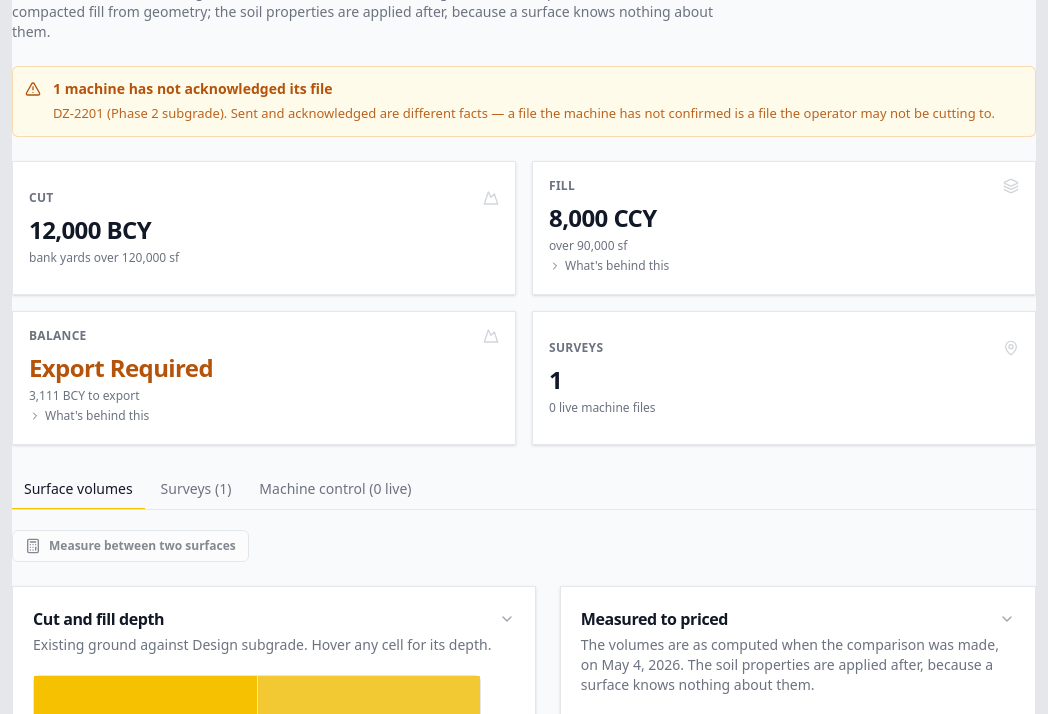
Test: machine control › marks a superseded file rather than hiding it
The width and height of the screenshot is (1048, 714).
Click the tab "Machine control (0 live)": click(335, 489) [247,469,424,509]
(page scrolled)
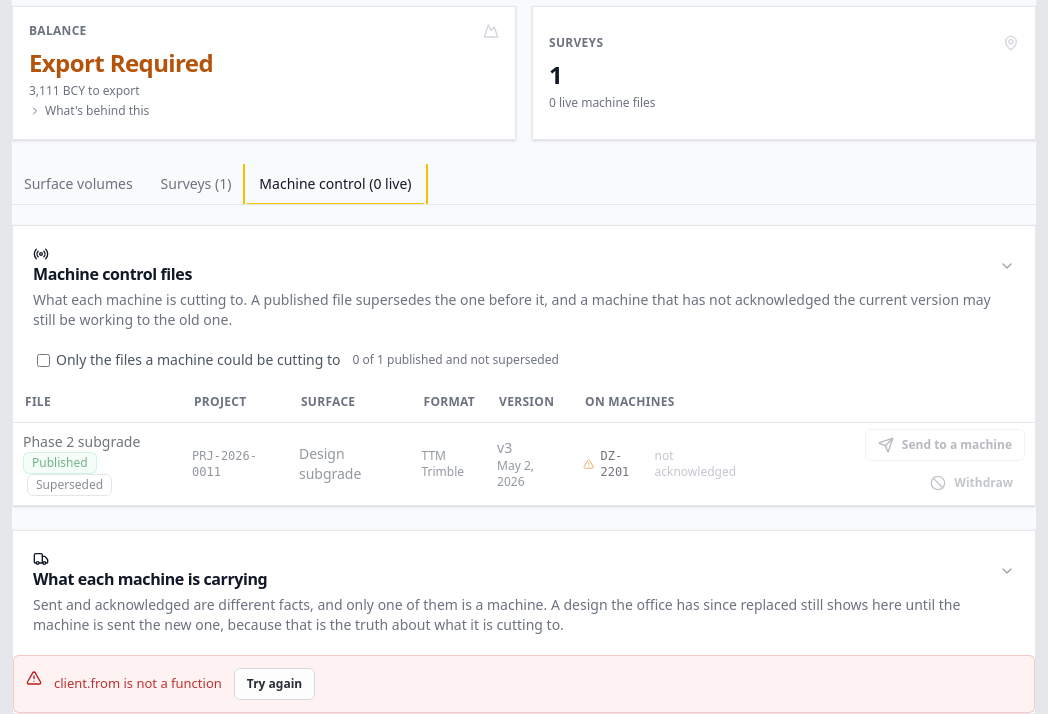
Expected: the text "Superseded" is shown, [27,474,112,496]
